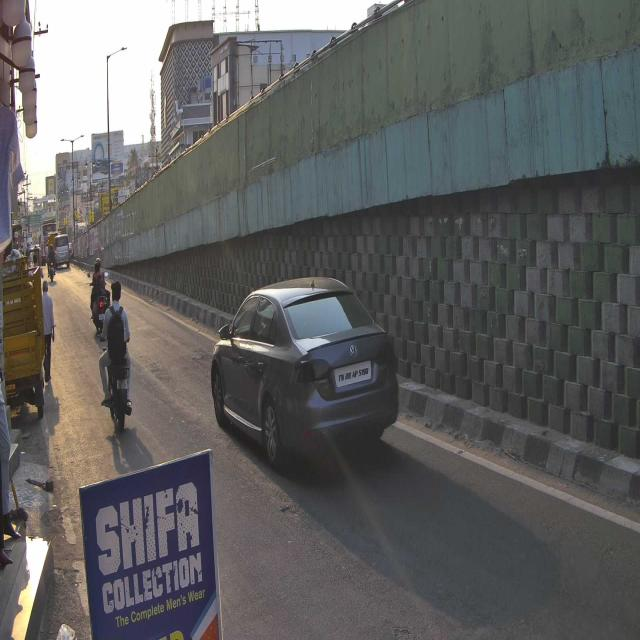single_rider: (98, 279, 132, 432)
